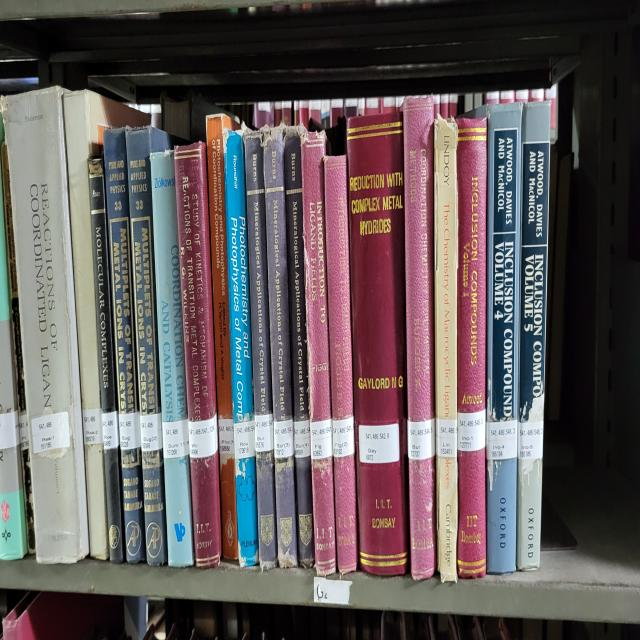Book: (1, 87, 89, 563), (62, 89, 150, 560), (348, 111, 409, 576), (174, 143, 221, 568), (126, 127, 170, 565), (150, 149, 194, 565), (104, 127, 145, 563), (486, 103, 521, 574), (402, 97, 436, 579), (516, 103, 550, 571), (301, 133, 336, 576), (224, 130, 259, 565), (456, 108, 488, 579), (264, 127, 298, 568), (244, 133, 278, 568), (206, 114, 239, 560), (89, 157, 125, 563), (325, 157, 358, 574), (284, 127, 315, 568), (434, 116, 458, 582)
Label: (31, 411, 70, 455), (359, 422, 400, 463), (486, 419, 518, 460), (189, 414, 218, 457), (458, 409, 485, 452), (408, 419, 435, 460), (518, 419, 544, 460), (162, 419, 189, 457), (332, 417, 355, 457), (310, 419, 332, 460), (234, 419, 255, 460), (119, 411, 141, 449), (140, 414, 162, 452), (436, 419, 458, 457), (274, 419, 294, 460), (254, 414, 274, 452), (82, 409, 102, 444), (101, 411, 119, 449), (294, 419, 311, 457), (219, 417, 234, 455)
